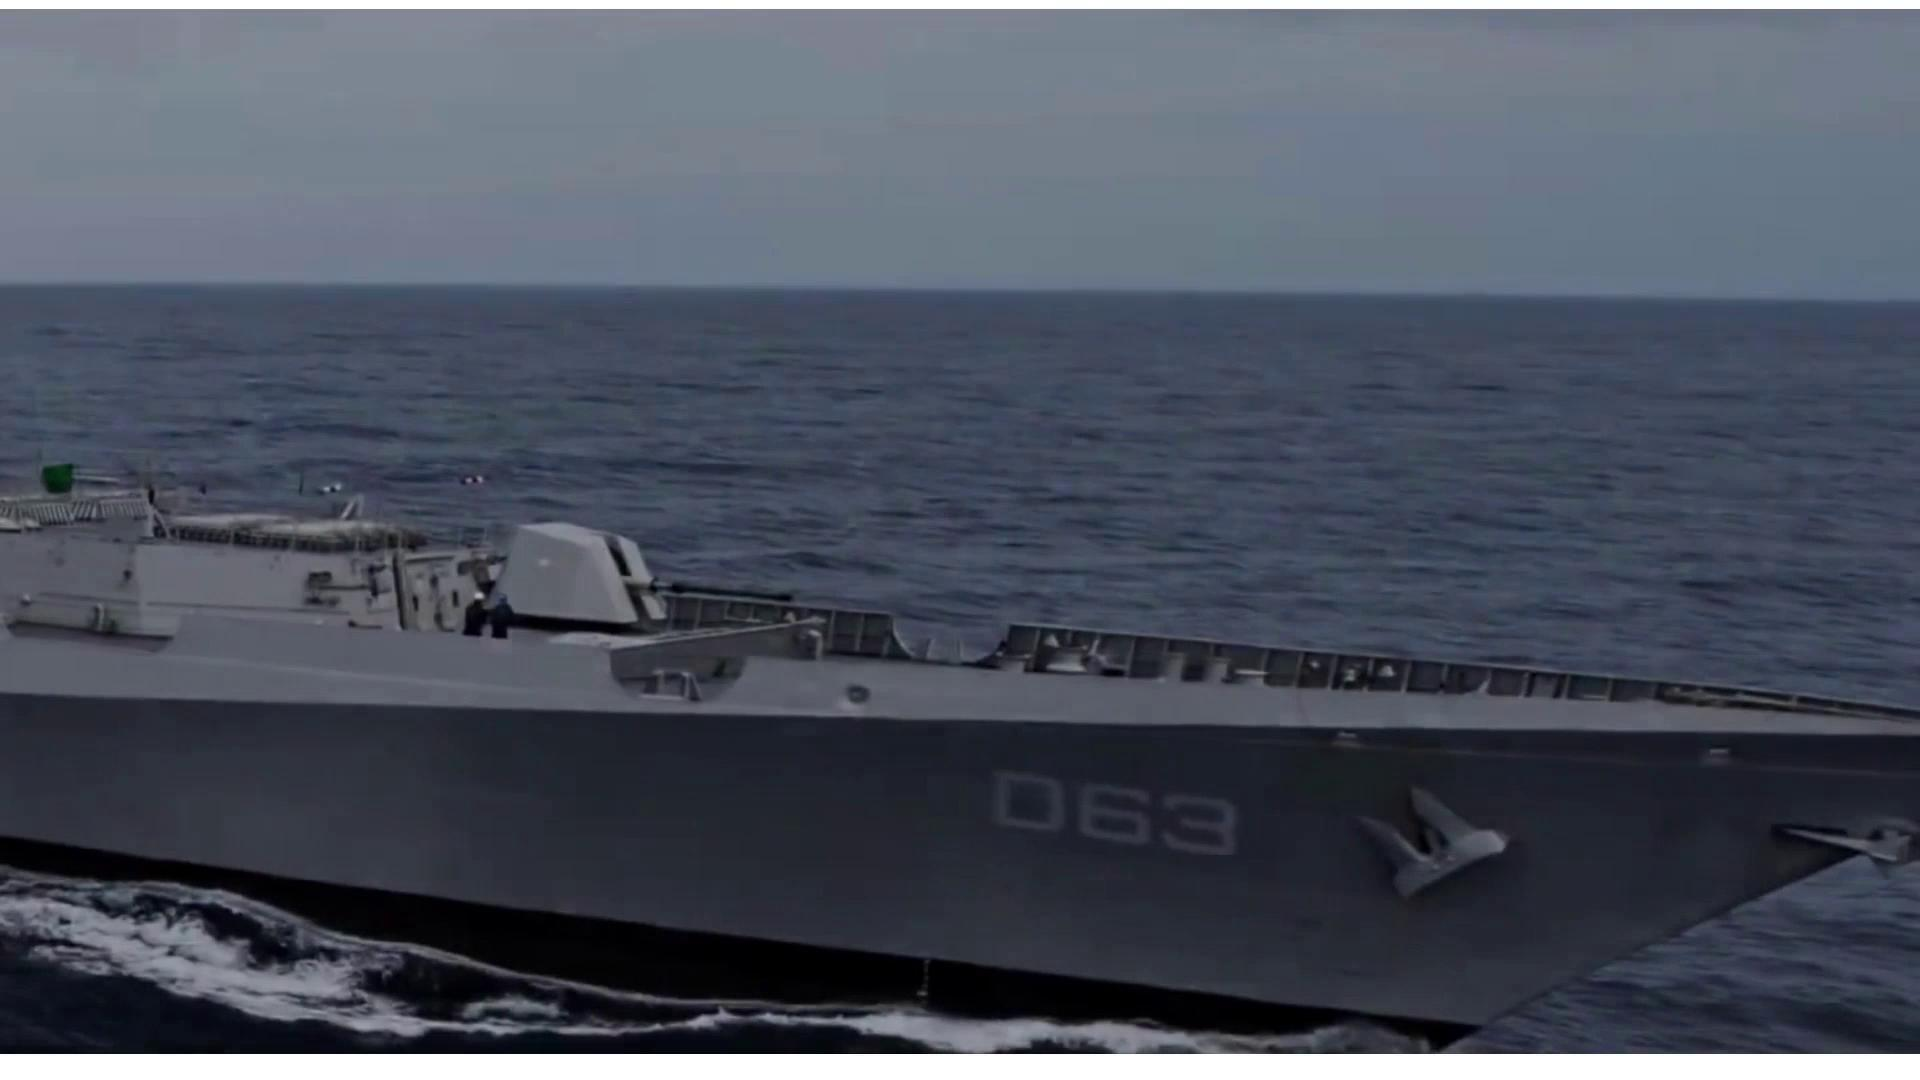OCR: (984, 761, 1244, 855)
